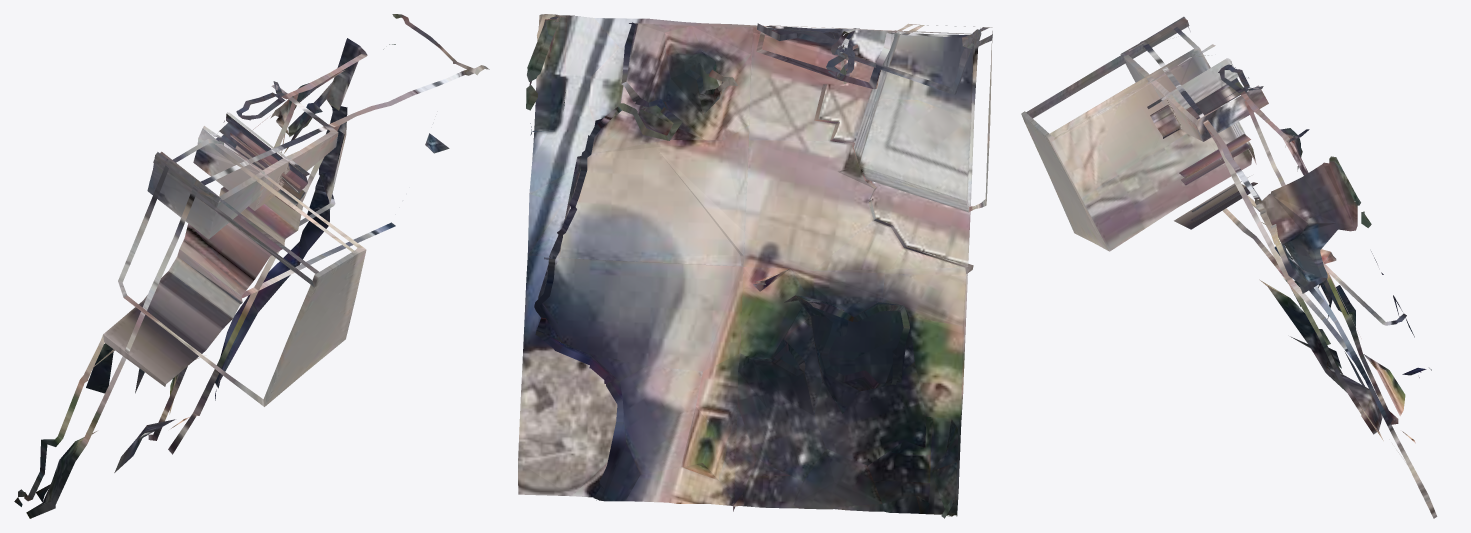
The model's file is AJVsH2wQMneaB_RlpAc6ixhQ6pM2y4MUg35_etX6dfxUr6fDMWMcXX-iaRfSDC6PKbLxyqJygnEku9tn1jXPZYXB7Gbvy2l9SZL7nRHA3ZMSnE7xYtARjVpR14YvdA6ivqnJFT3Tcy7aUOxO7mXqr7PaQqBL.glb.
3 renders of one model, left to right at view 1: azimuth 30°, elevation 25°; view 2: azimuth 150°, elevation 25°; view 3: azimuth 270°, elevation 25°, orthographic. The views are drawn at different scales.
Size of the model in its own units: 41.48 by 37.91 by 39.86.
1 material, 1 textured.
